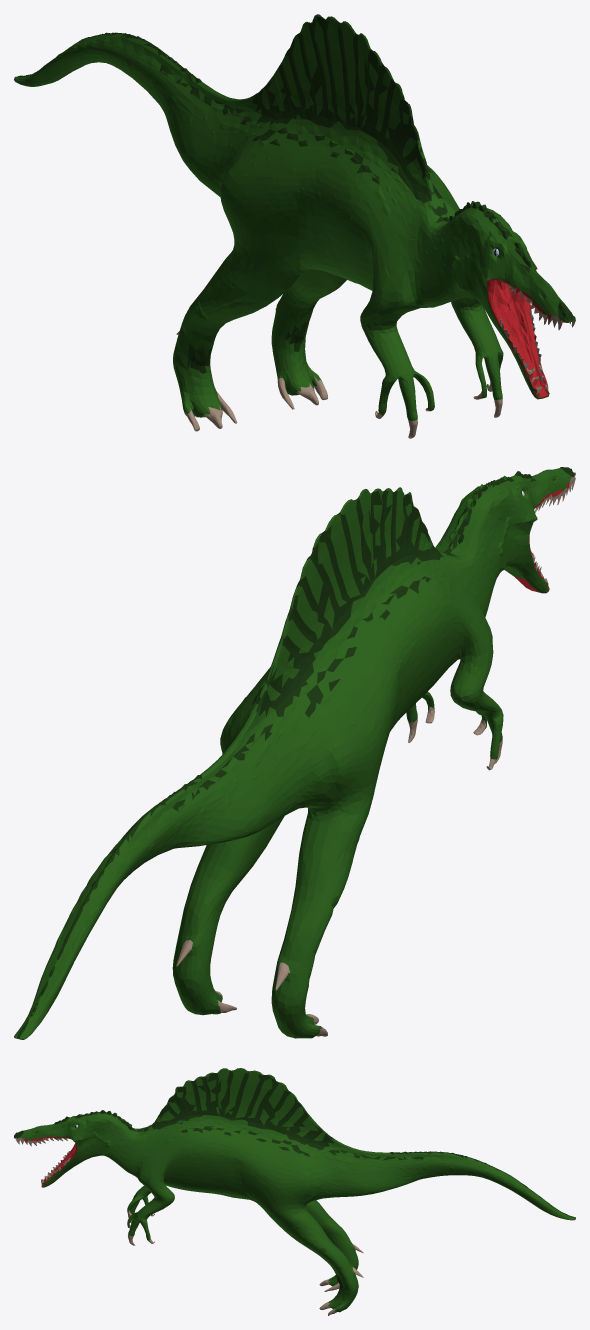
The model's file is spinosaurus.glb.
3 views of the same model, one above another, from view 1: azimuth 30°, elevation 25°; view 2: azimuth 150°, elevation 25°; view 3: azimuth 270°, elevation 25° (orthographic). The views are drawn at different scales.
Visible parts, largest first — view 1: Base; view 2: Base; view 3: Base.
Part boxes in pixels (x1,y1,x2,y2): Base: (14, 14, 575, 438); Base: (14, 467, 575, 1039); Base: (14, 1068, 575, 1315).
Bounding box in the file's own units: 5.54 × 17.4 × 38.2.
